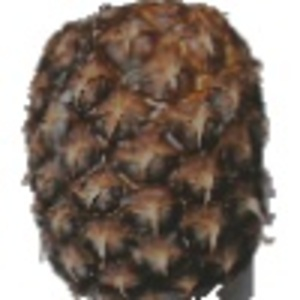abacaxi: (19, 1, 275, 294)
